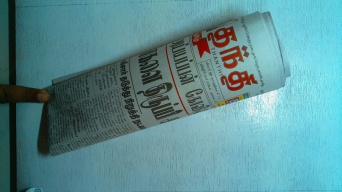p: (42, 11, 299, 156)
